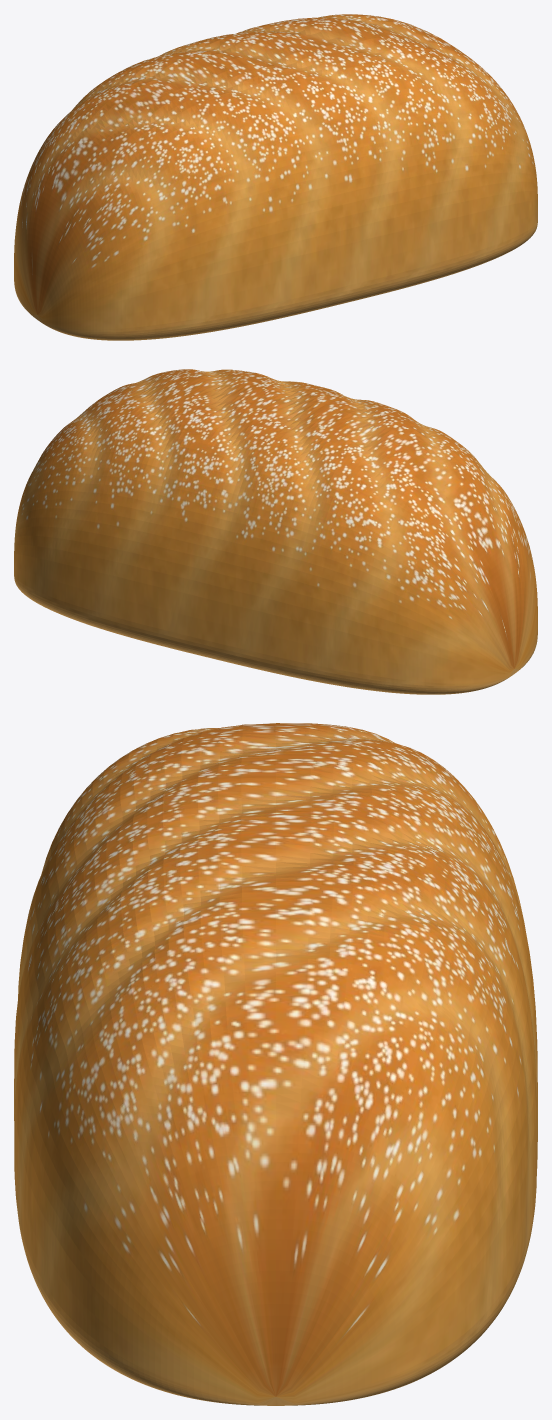
The model's file is bun.glb.
3 views of the same model, one above another, from view 1: azimuth 30°, elevation 25°; view 2: azimuth 150°, elevation 25°; view 3: azimuth 270°, elevation 25° (orthographic). The views are drawn at different scales.
Parts seen in each view (by area): view 1: geometry_0; view 2: geometry_0; view 3: geometry_0.
Boxes of the visible parts, left/top/right/bottom form: geometry_0: left=14, top=14, right=537, bottom=340; geometry_0: left=14, top=369, right=537, bottom=694; geometry_0: left=14, top=723, right=537, bottom=1405.
Size of the model in its own units: 0.14 by 0.06 by 0.074.
1 material, 1 textured.
